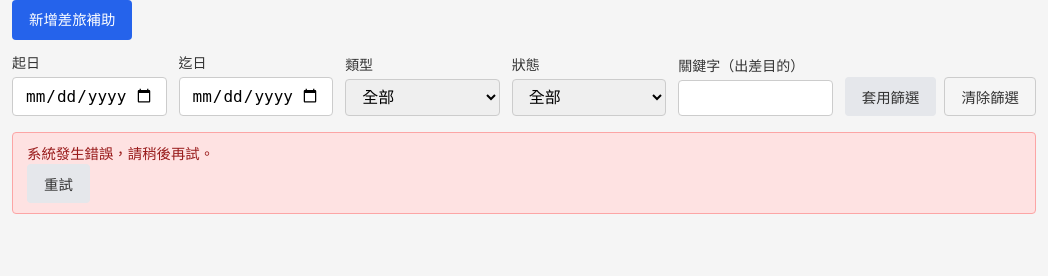
ApplicationListSection › Error：載入失敗顯示錯誤訊息 + 重試按鈕
This screenshot has width=1048, height=276.
Expected: the message shows "系統發生錯誤，請稍後再試。", [27,145,214,162]
Click the button "重試".
click(58, 184)  # box [27,164,90,203]
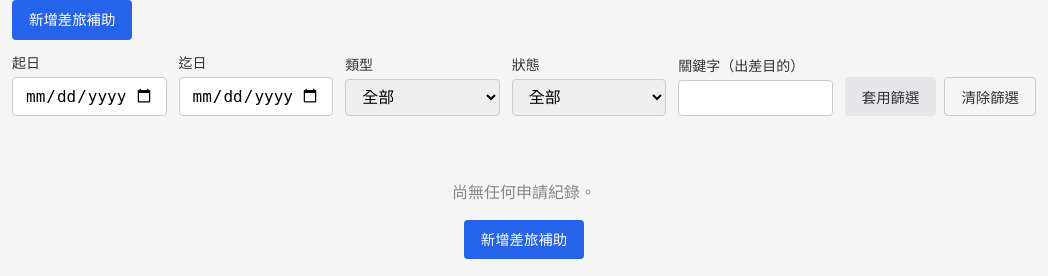
Now the text "尚無任何申請紀錄。" is shown, box [452,182,596,202]
